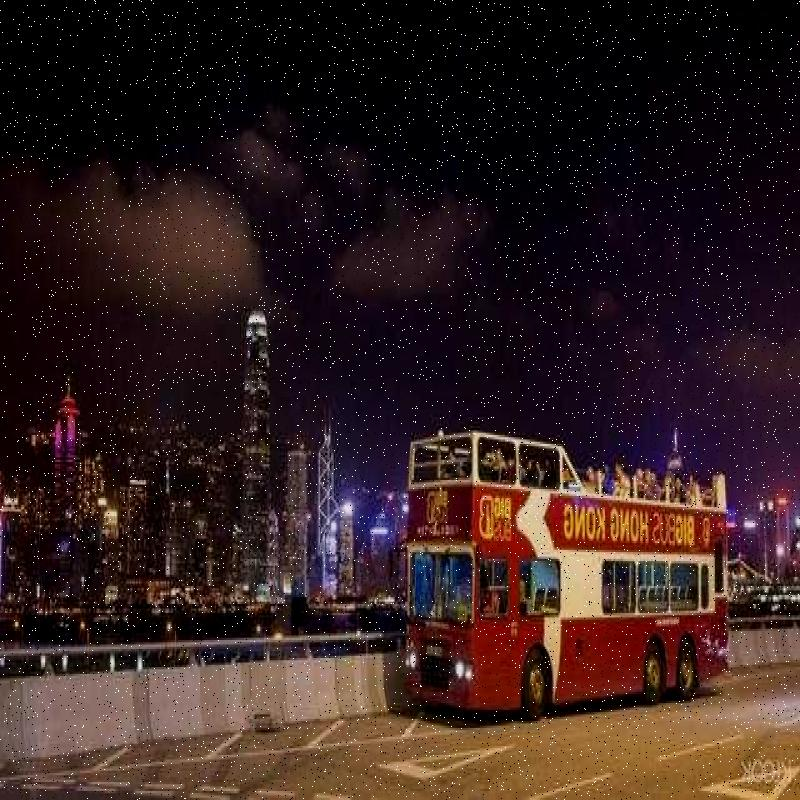bus: (399, 415, 741, 735)
